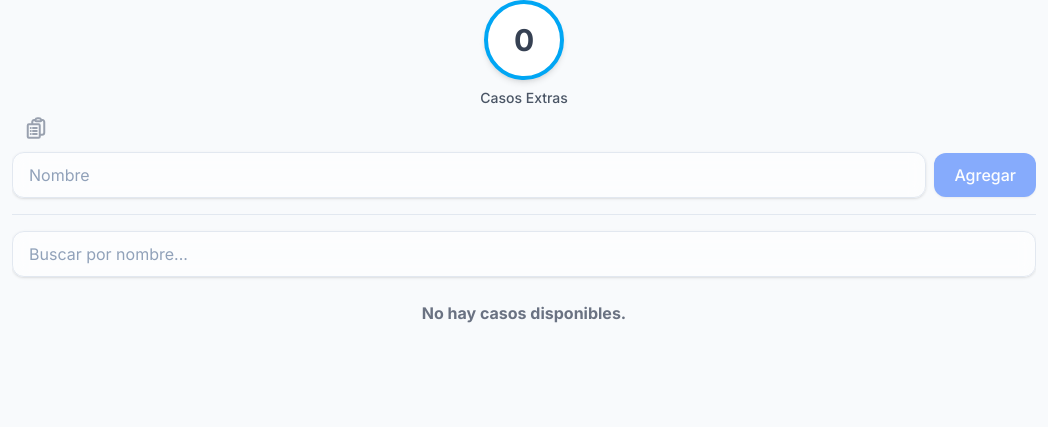
Test: Cases.vue › adds a case when entering a name and clicking Agregar
Type "Test Case" into the field named "Nombre del caso" at (469, 175), box top-left (12, 152), bottom-right (926, 198)
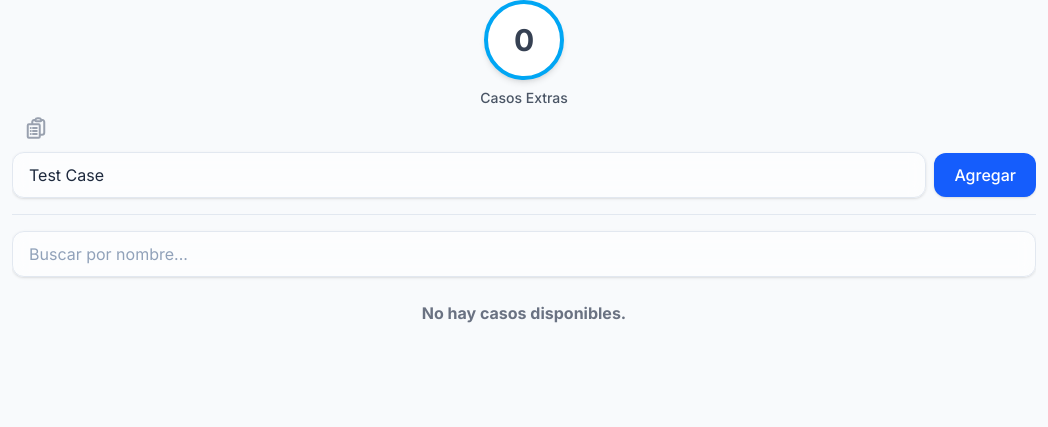
Click the button "Agregar" at (985, 175), box top-left (934, 153), bottom-right (1036, 197)
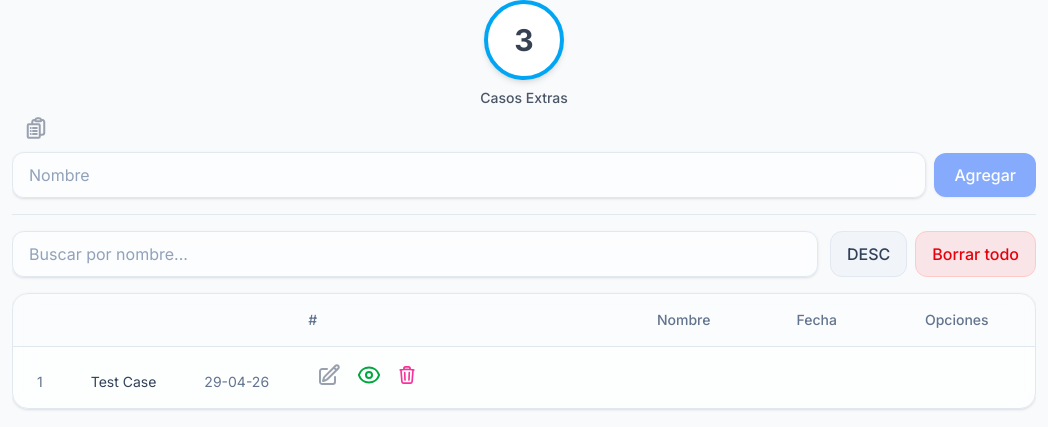
Check: the cell "Test Case" is shown, box top-left (67, 347), bottom-right (180, 408)
